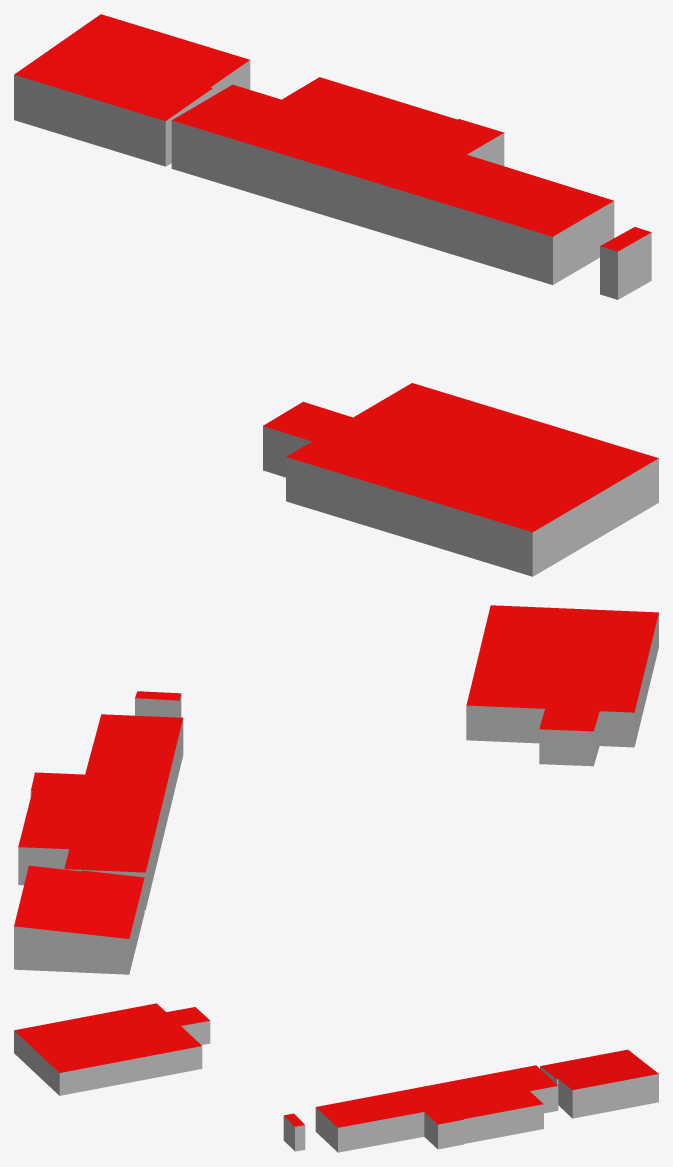
3 views of the same model, one above another, from view 1: azimuth 30°, elevation 25°; view 2: azimuth 150°, elevation 25°; view 3: azimuth 270°, elevation 25° (orthographic). The views are drawn at different scales.
Bounding box in the file's own units: 65.47 × 6.86 × 141.
